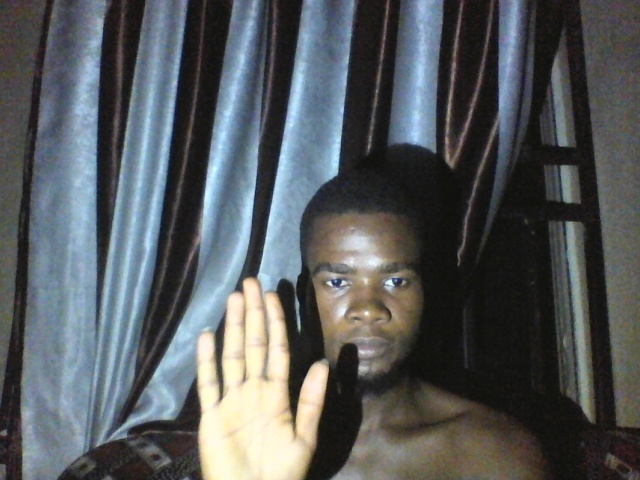hello: (194, 273, 330, 480)
